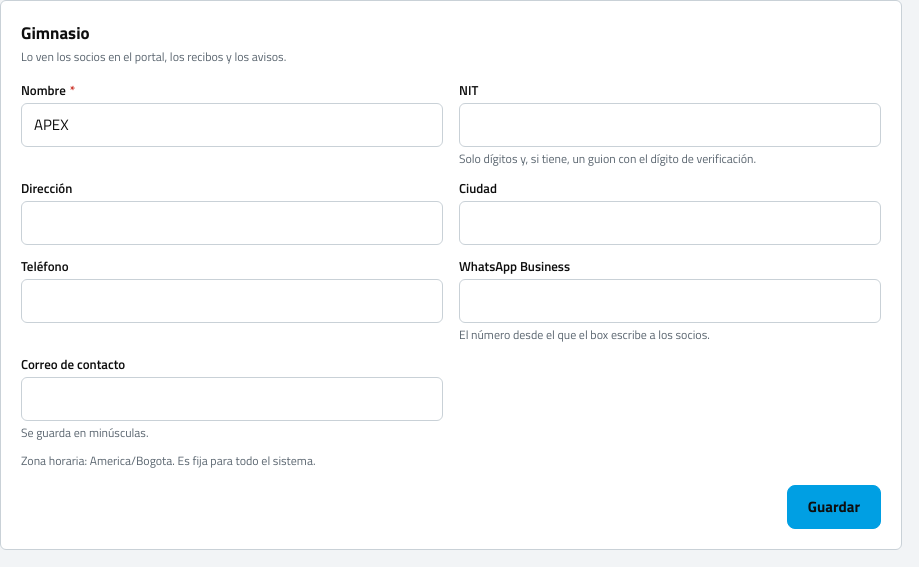
GymSettingsForm › mientras guarda, el botón queda ocupado y no envía dos veces
Expected: the field labelled "Nombre*" is shown, [21,103,443,147]
Type "Bogotá" into the field labelled "Ciudad" at (670, 223), box [459,201,881,245]
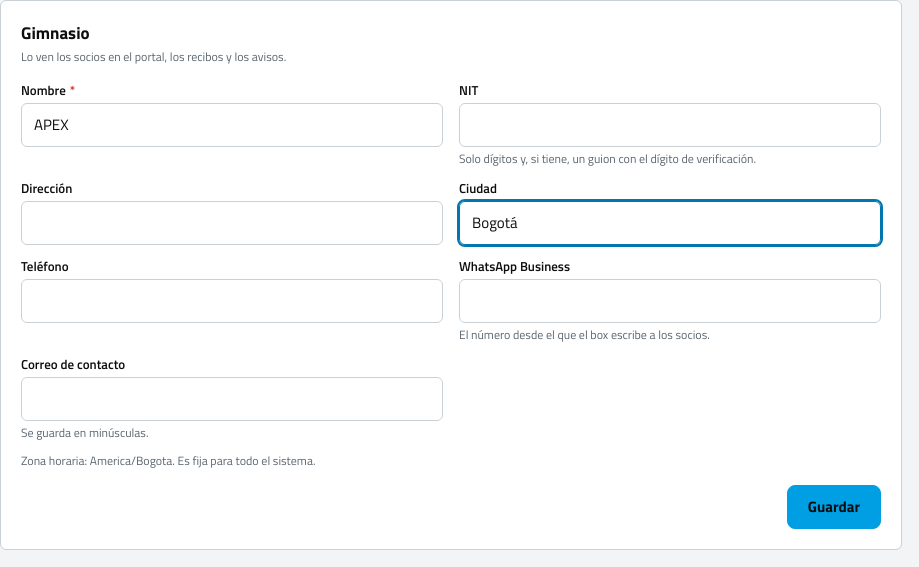
Click the button "Guardar" at (834, 507), box [787,485,881,529]
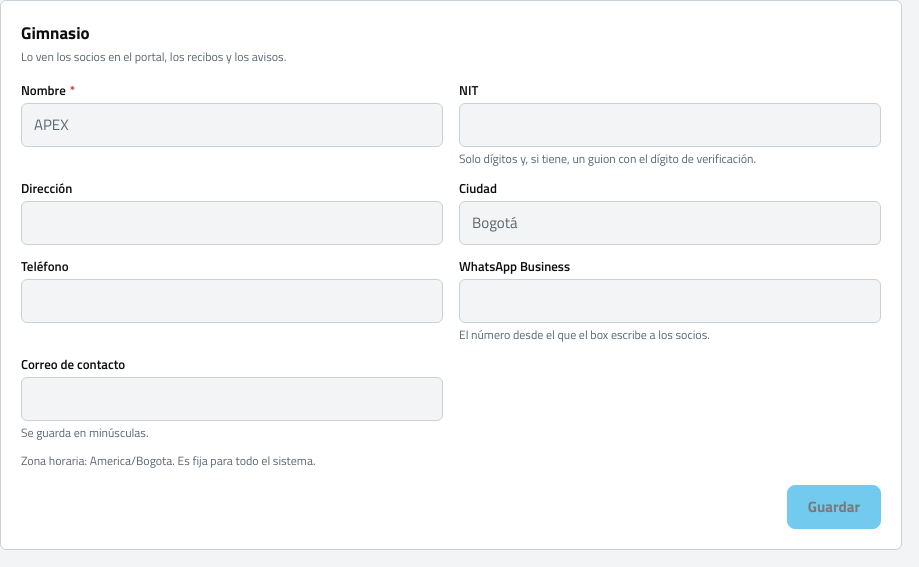
Expected: the field labelled "Ciudad" is disabled, [459,201,881,245]
Result: the button "Guardar" is disabled
Click the button "Guardar" at (834, 507), box [787,485,881,529]
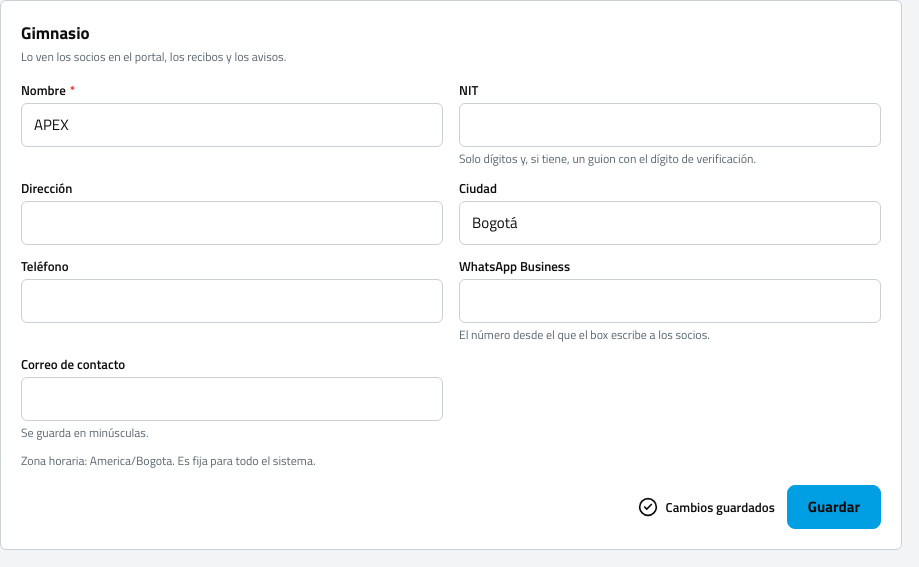
Result: the text "Cambios guardados" is shown at [638,497,775,517]
